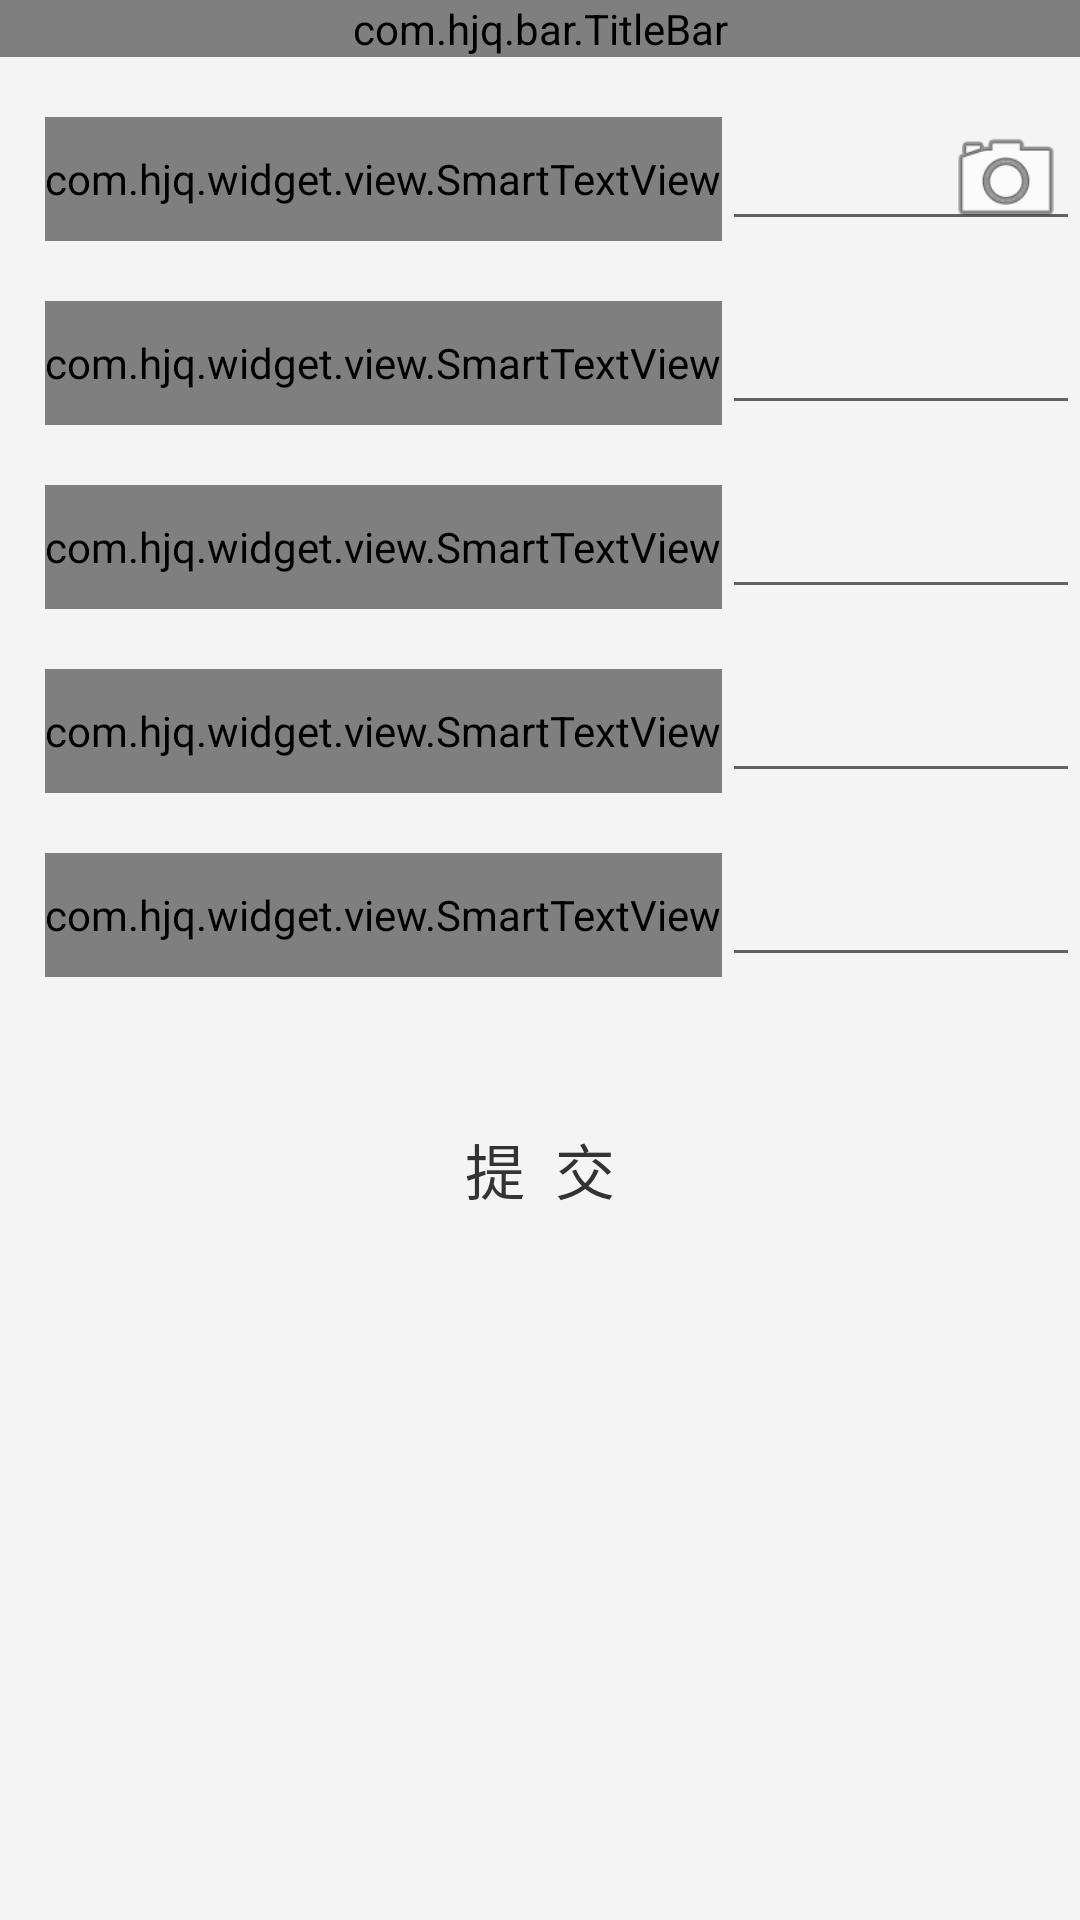

Screen size 1080 x 1920. Icon name, then its center in pixels as [x,y]:
camera: [999,178]
